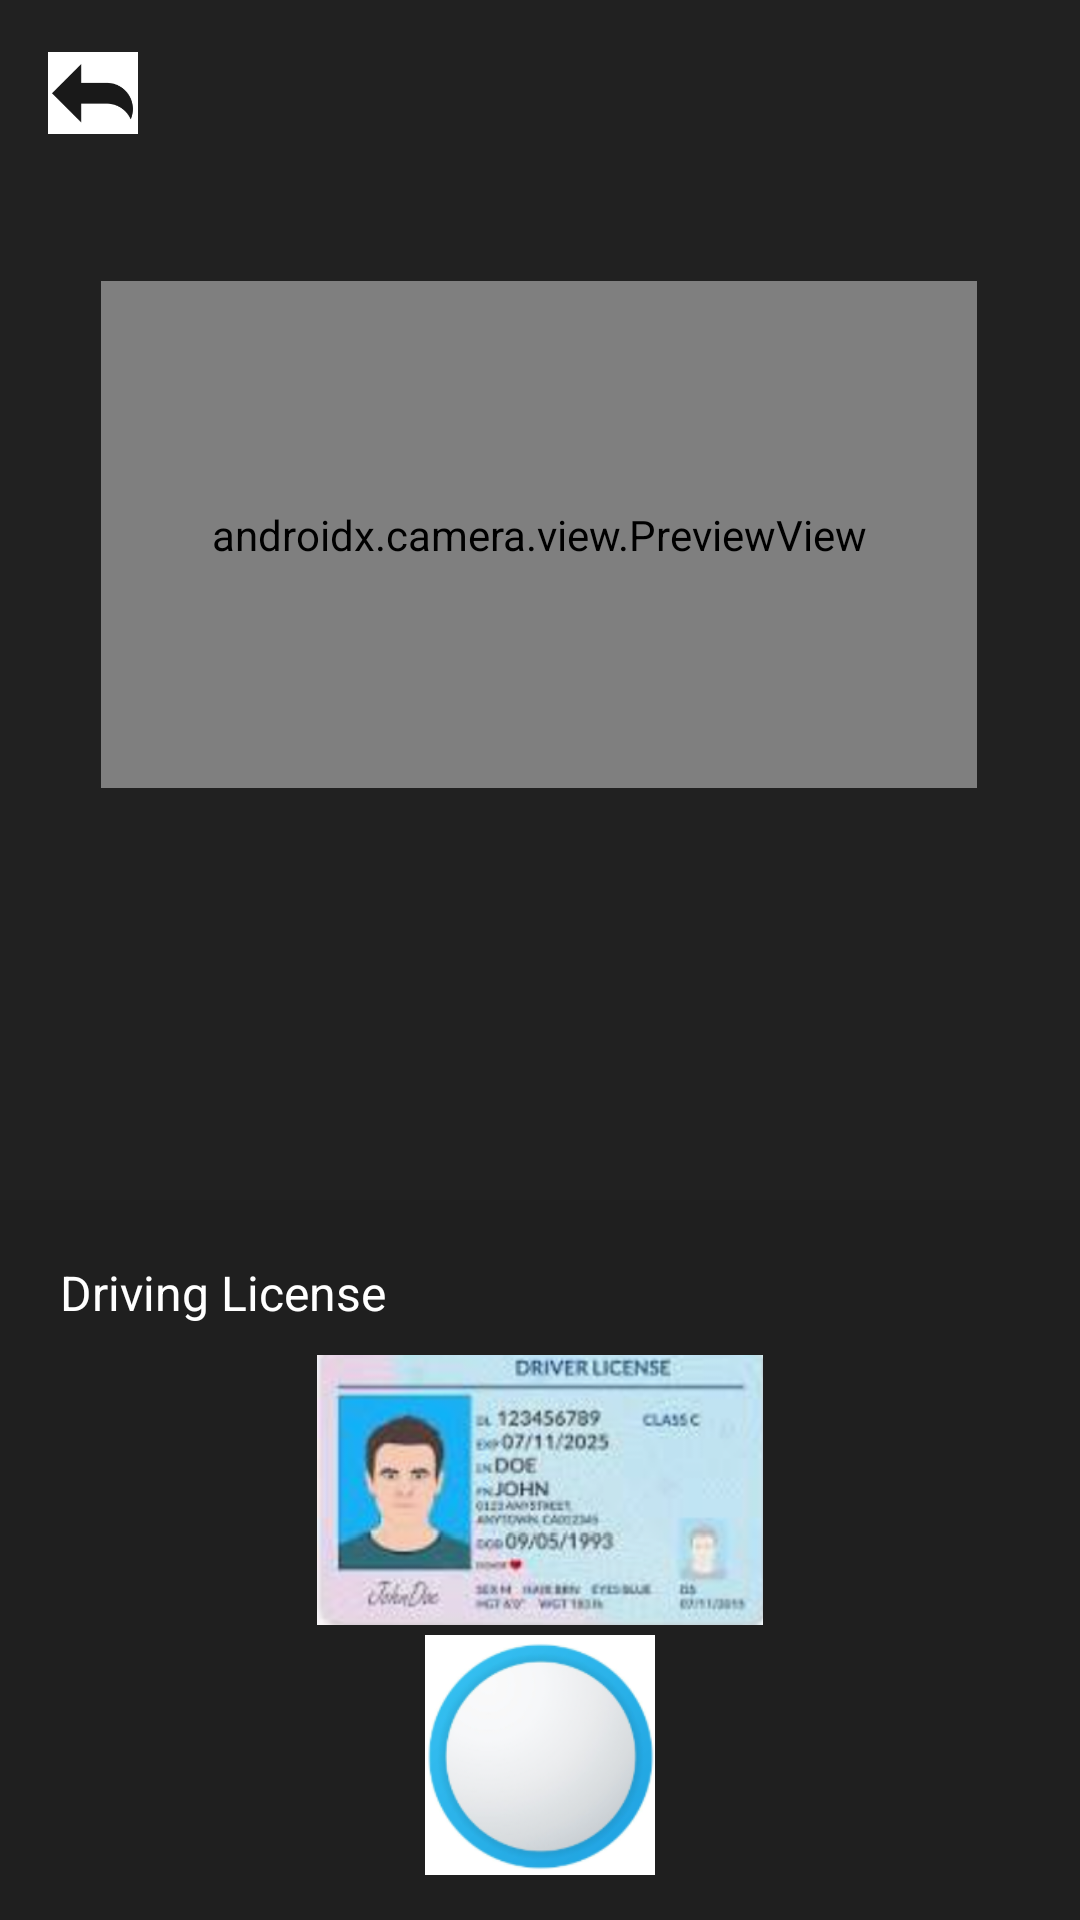

Icon click points for this 1080w x 1920h phone screenshot, format (x,y):
back: (93,93)
shutter: (540,1755)
